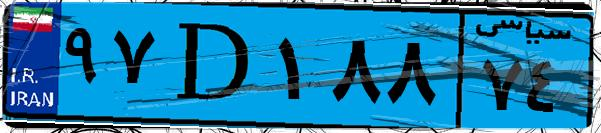1: (270, 28, 330, 110)
4: (525, 38, 570, 115)
7: (475, 38, 525, 113), (110, 28, 158, 98)
8: (385, 28, 445, 110), (330, 28, 385, 110)
9: (57, 26, 110, 100)
D: (158, 12, 270, 120)
